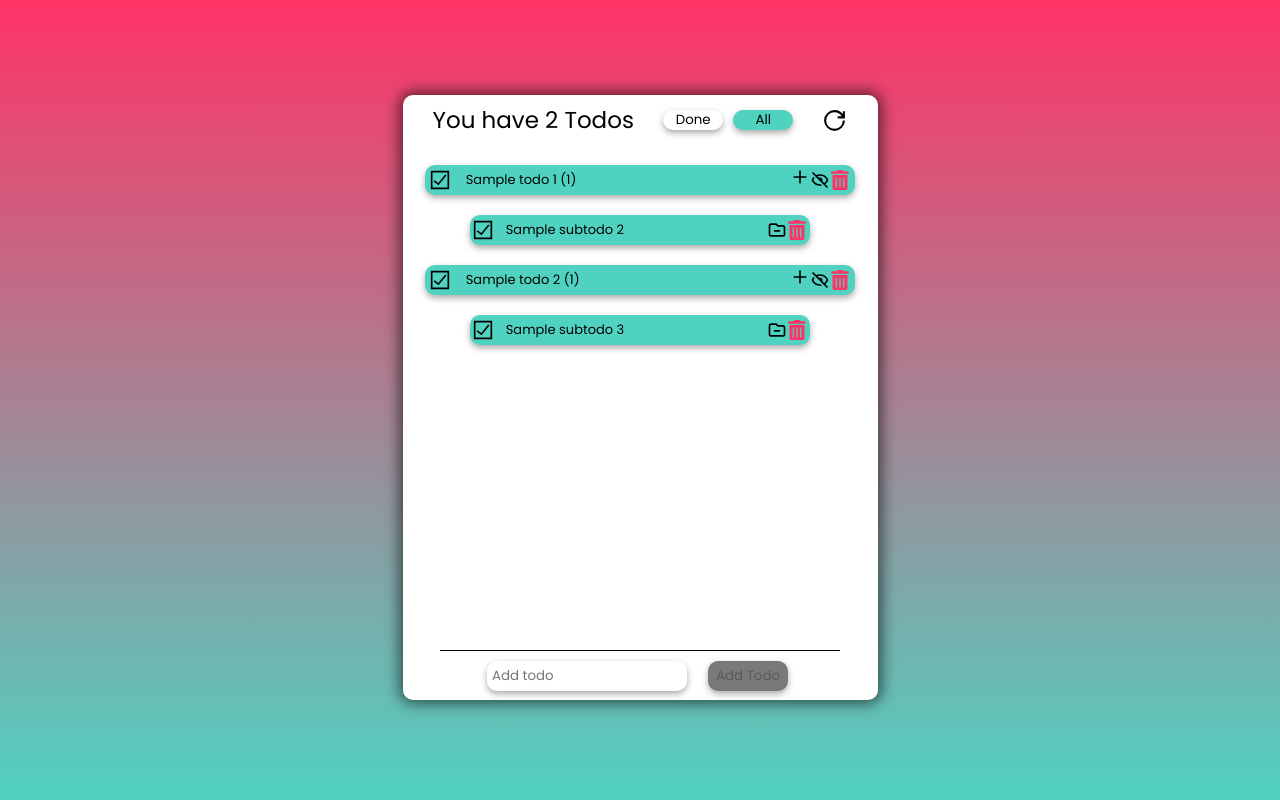
it: Delete functionality › Deletes the first parent todo
The width and height of the screenshot is (1280, 800).
Click the 1st icon with test id "parentTrashIcon".
click(840, 180)  # box x1=830 y1=170 x2=850 y2=190
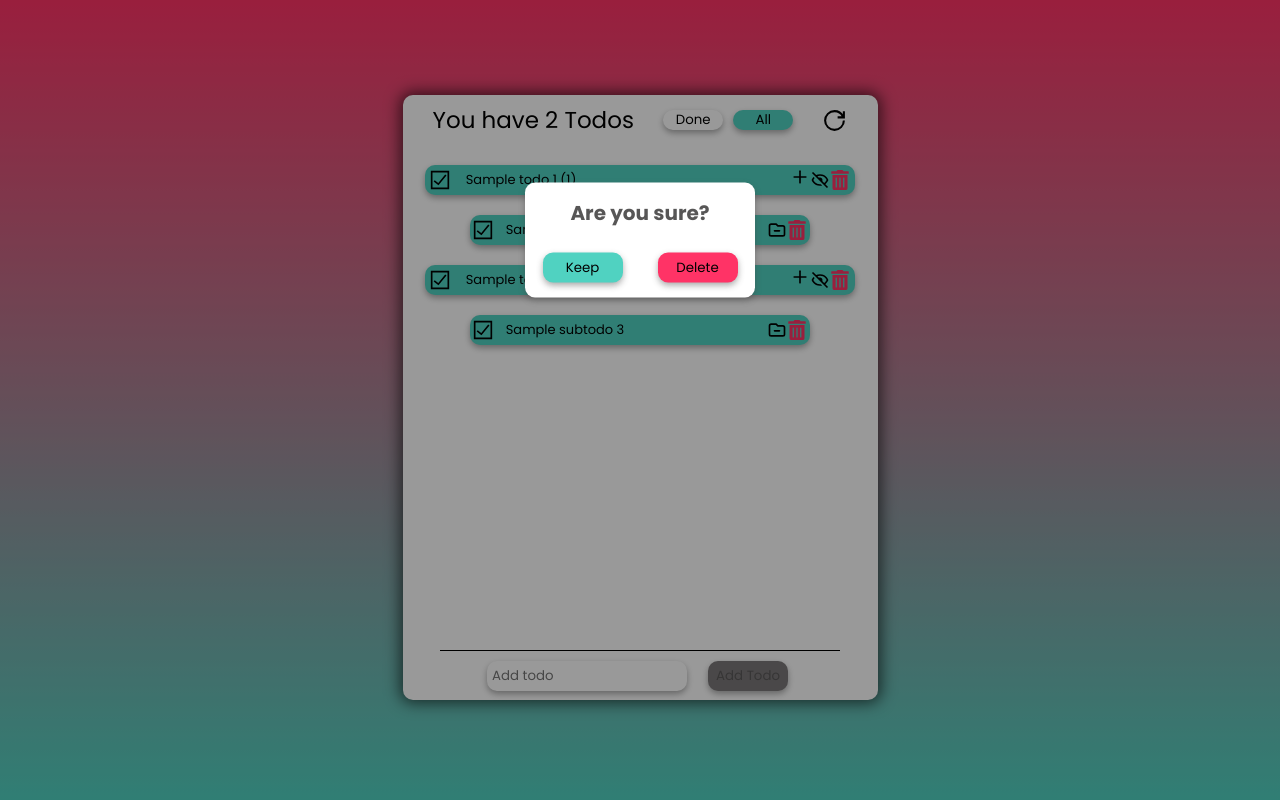
Click the button with class "modalDelete".
click(698, 268)  # box x1=658 y1=253 x2=738 y2=283
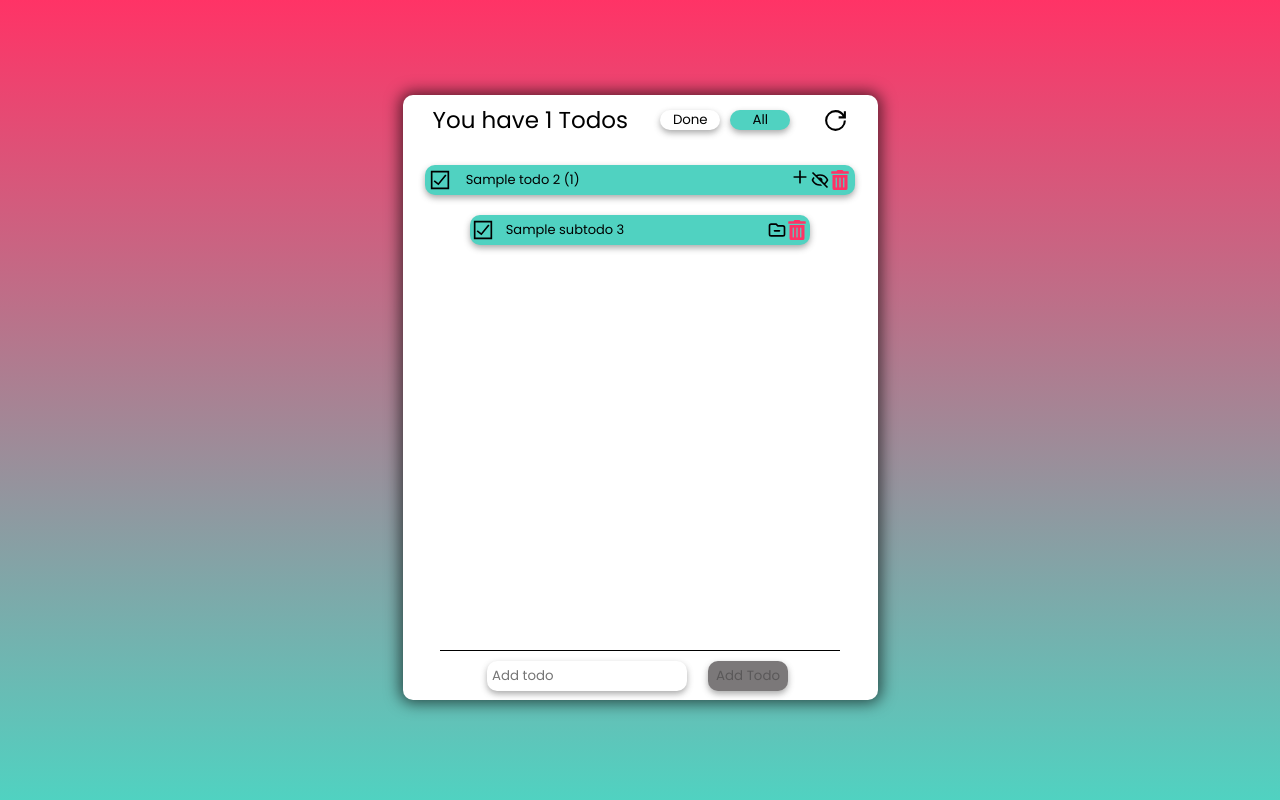
expect the number of list items with test id "todoLi" is 1: met, box x1=425 y1=165 x2=855 y2=255
